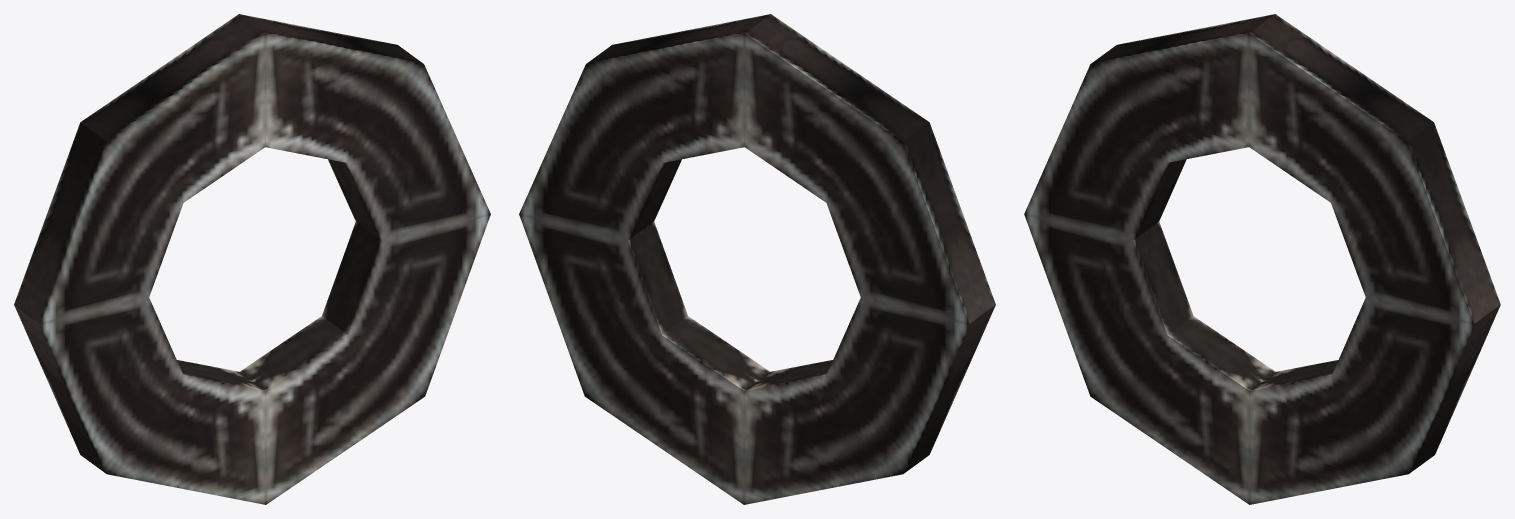
Rendered from Machete_tail_default.FBX.
3 renders of one model, left to right at view 1: azimuth 30°, elevation 25°; view 2: azimuth 150°, elevation 25°; view 3: azimuth 330°, elevation 25°, orthographic.
Parts seen in each view (by area): view 1: Machete_tail_default; view 2: Machete_tail_default; view 3: Machete_tail_default.
Part boxes in pixels (<box>): Machete_tail_default: <box>14,14,490,504</box>; Machete_tail_default: <box>519,14,995,504</box>; Machete_tail_default: <box>1024,14,1500,504</box>.
Bounding box in the file's own units: 10.02 × 10.02 × 1.02.
Materials: 1 (1 with a texture image).
